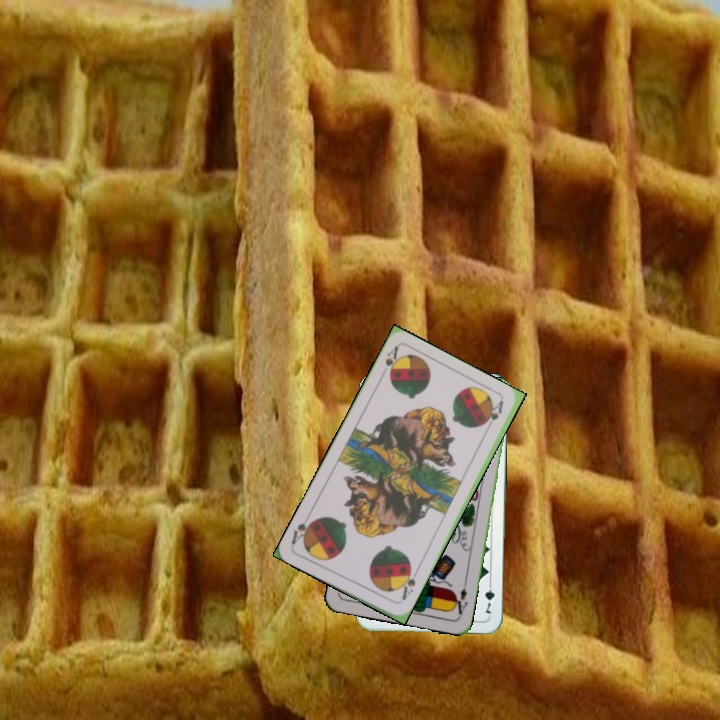EA: (449, 578, 470, 619)
G7: (481, 577, 497, 616)
SA: (376, 343, 403, 381), (396, 564, 418, 603)
